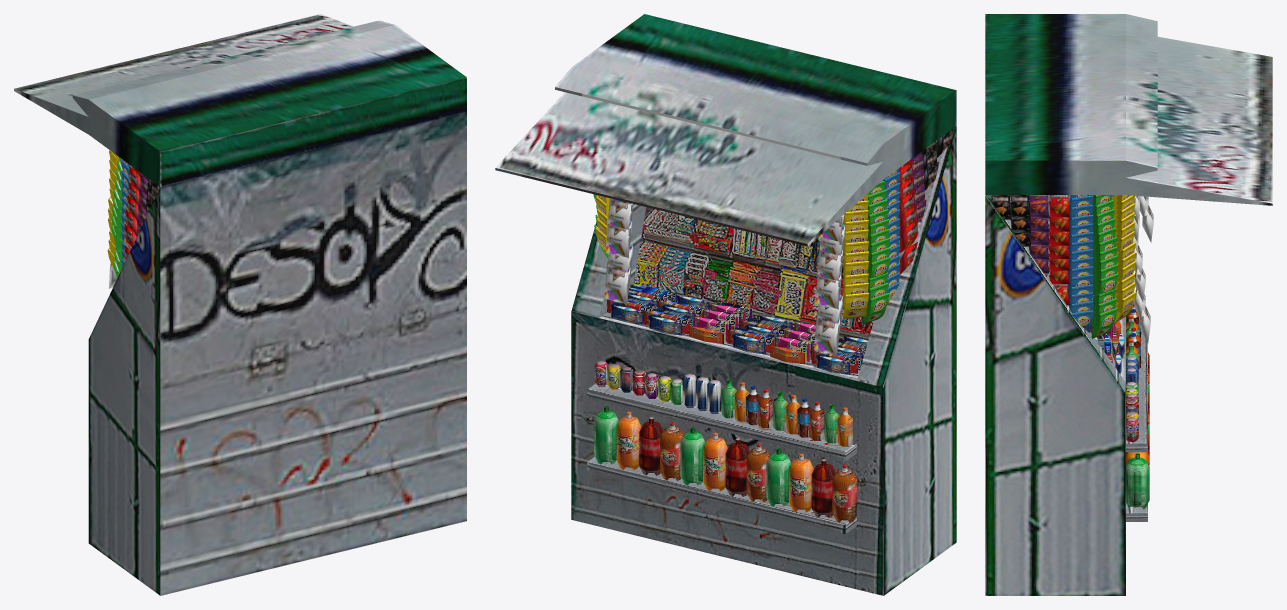
Rendered from kiosco.fbx.
3 renders of one model, left to right at view 1: azimuth 30°, elevation 25°; view 2: azimuth 150°, elevation 25°; view 3: azimuth 270°, elevation 25°, orthographic. The views are drawn at different scales.
Visible parts, largest first — view 1: Cube.570, Cube.043, food_snack_chips_2.041, food_snack_chips_1.026, food_snack_chips_3.030; view 2: Cube.570, Cube.072, food_snack_chips_1.026, food_snack_chips_2.041, Cube.034, Cube.043, food_snack_chips_3.030, Cylinder.007, Cylinder.034, Cylinder.002, Cylinder.001, Cylinder.008 (+8 smaller); view 3: Cube.570, food_snack_chips_2, food_snack_chips_3.045, food_snack_chips_1.039, Cube.064, Cube.059, Cube.034, Cylinder.033, Cube.015, Cube.072.
Boxes of the visible parts, x1,y1,x2,y2 form: Cube.570: (14,14,466,595); Cube.043: (124,165,140,261); food_snack_chips_2.041: (111,157,123,278); food_snack_chips_1.026: (107,150,120,269); food_snack_chips_3.030: (121,159,130,269); Cube.570: (495,14,956,595); Cube.072: (814,217,844,355); food_snack_chips_1.026: (842,193,868,318); food_snack_chips_2.041: (862,180,890,324); Cube.034: (604,198,632,304); Cube.043: (898,160,917,274); food_snack_chips_3.030: (883,168,900,302); Cylinder.007: (832,464,857,522); Cylinder.034: (616,411,641,469); Cylinder.002: (680,427,705,485); Cylinder.001: (703,432,727,491); Cylinder.008: (766,448,791,506); Cube.570: (985,14,1272,595); food_snack_chips_2: (1090,195,1118,338); food_snack_chips_3.045: (1068,195,1093,332); food_snack_chips_1.039: (1112,195,1136,323); Cube.064: (1048,195,1069,305); Cube.059: (1029,195,1049,277); Cube.034: (1133,195,1150,343); Cylinder.033: (1126,453,1149,508); Cube.015: (1010,195,1030,246); Cube.072: (1139,196,1153,242).
Bounding box in the file's own units: 361 × 500 × 299.
